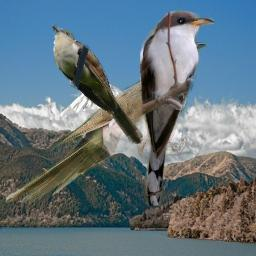Cuckoo: (4, 42, 207, 204), (138, 9, 214, 206), (52, 25, 143, 144)
